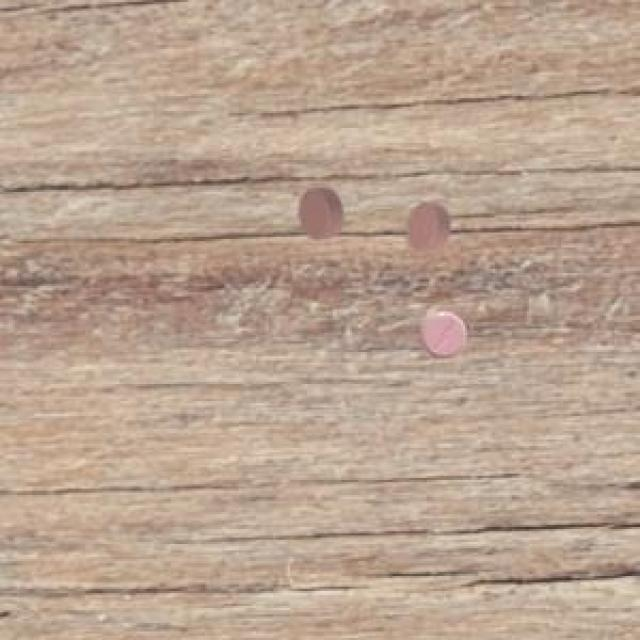Kremil_S: (410, 298, 479, 372), (289, 181, 356, 247), (401, 194, 456, 265)
